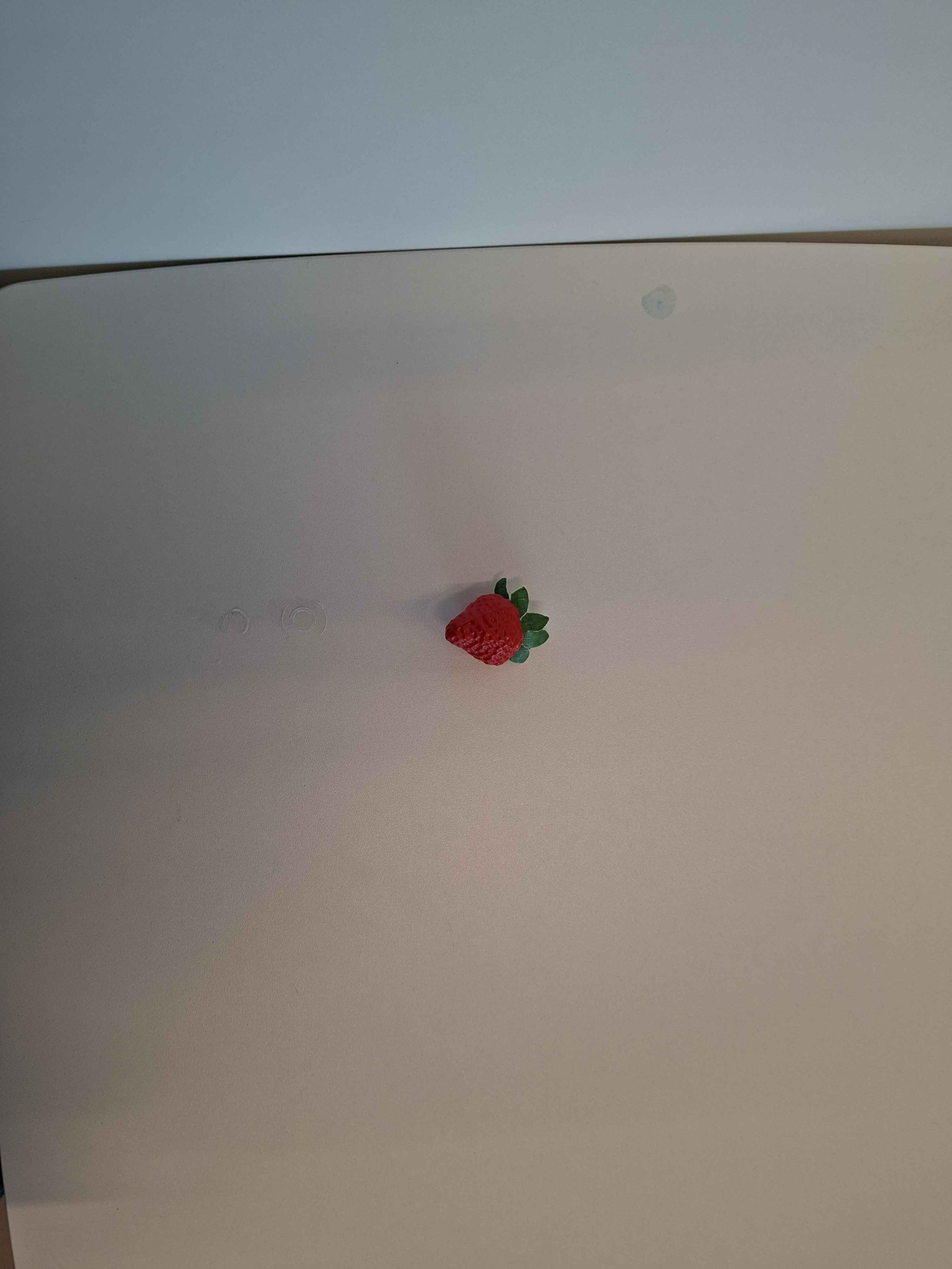Strawberry: (432, 586, 538, 675)
